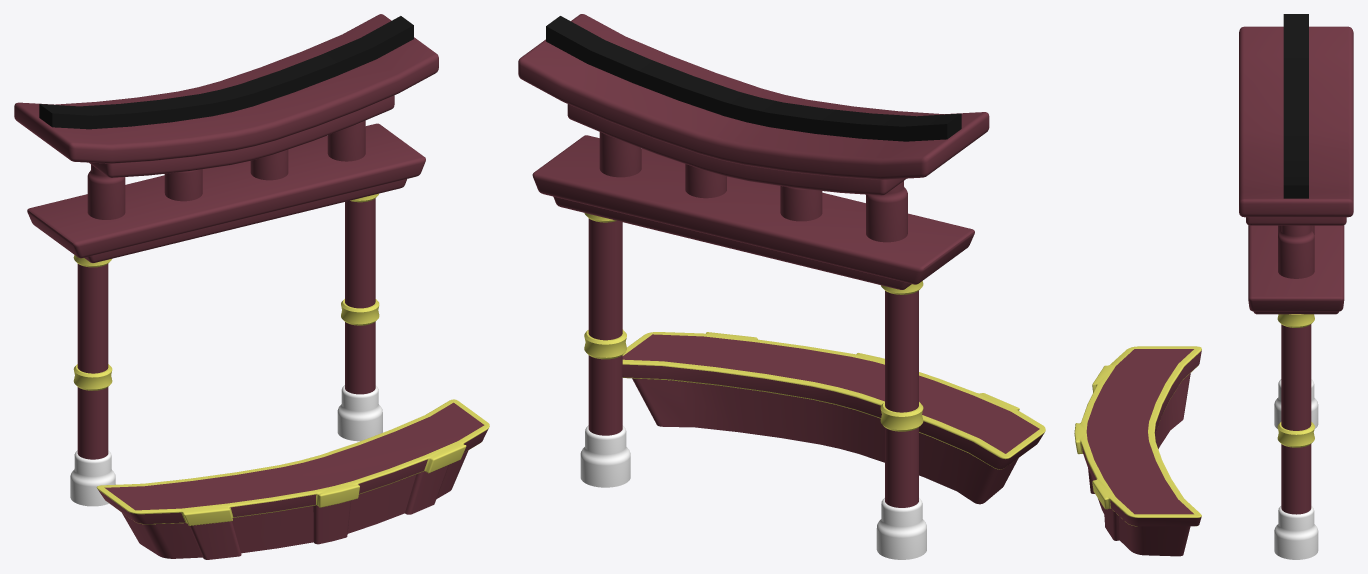
The model's file is susiMasa.fbx.
3 renders of one model, left to right at view 1: azimuth 30°, elevation 25°; view 2: azimuth 150°, elevation 25°; view 3: azimuth 270°, elevation 25°, orthographic. The views are drawn at different scales.
Parts seen in each view (by area): view 1: TahtaGiris, masaSusi; view 2: TahtaGiris, masaSusi; view 3: TahtaGiris, masaSusi.
Boxes of the visible parts, <box> form: TahtaGiris: <box>14,14,438,506</box>; masaSusi: <box>96,399,489,559</box>; TahtaGiris: <box>518,14,989,559</box>; masaSusi: <box>622,332,1045,504</box>; TahtaGiris: <box>1239,14,1353,559</box>; masaSusi: <box>1074,346,1201,556</box>.
Bounding box in the file's own units: 432 × 447 × 291.
